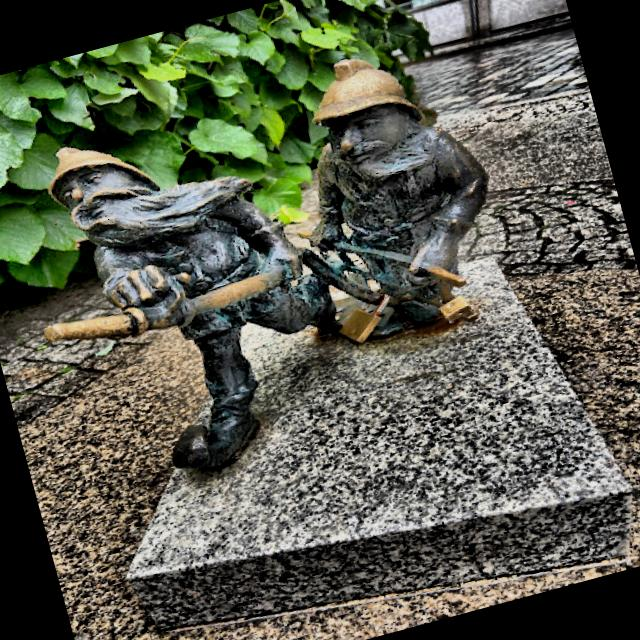Pozarki: (45, 60, 487, 470)
